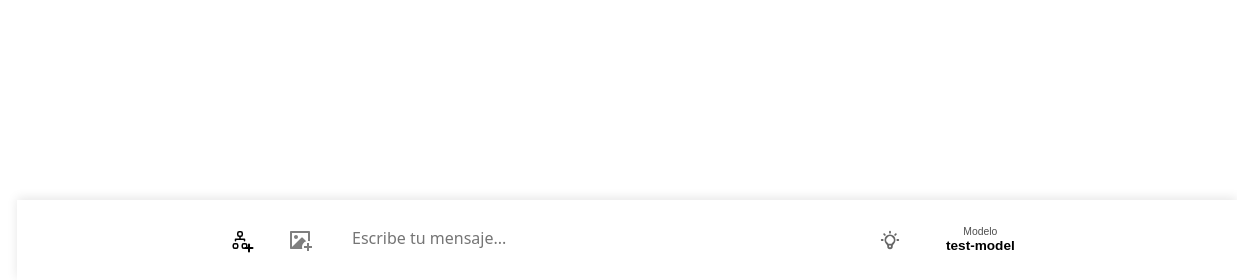
Test: ChatInput Component - Templates › abrir el menú de plantillas muestra las opciones cargadas
Click the button titled "Ver plantillas": {"x": 890, "y": 240} top-left (874, 224), bottom-right (906, 256)
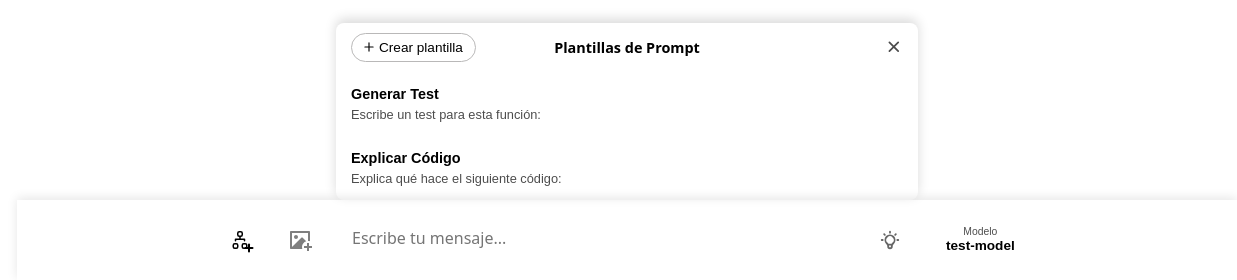
expect the text "Generar Test" is shown: met, box top-left (351, 86), bottom-right (439, 102)
expect the text "Explicar Código" is shown: met, box top-left (351, 150), bottom-right (460, 166)
